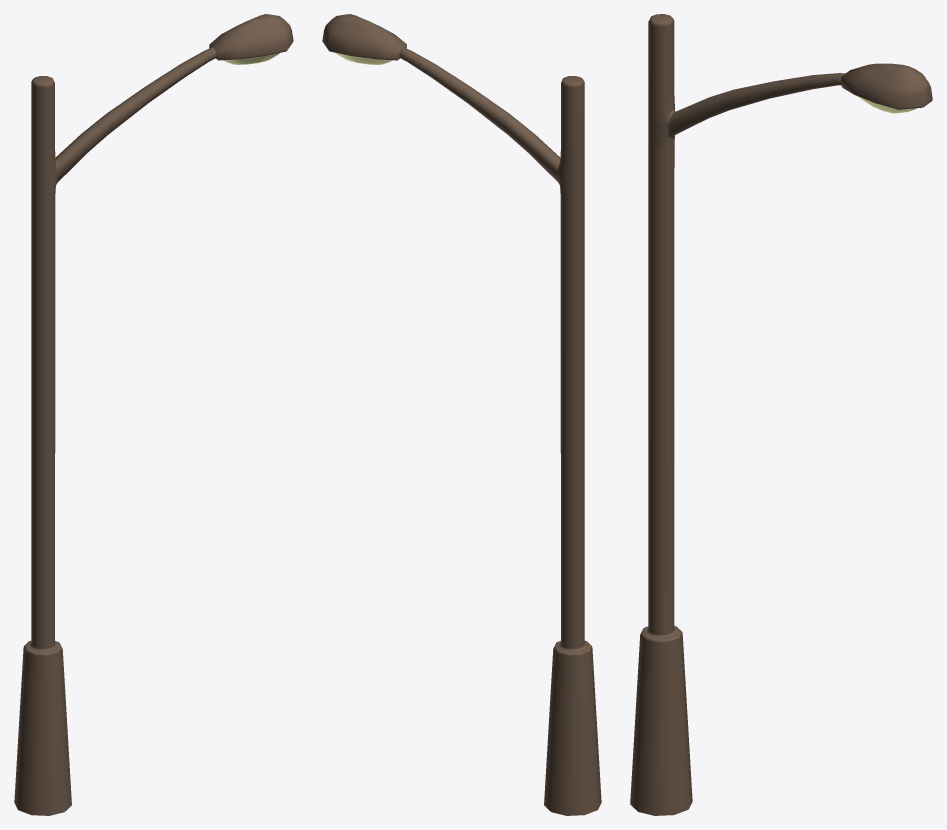
File: Lampost_MDL 1.fbx
3 views of the same model, side by side, from view 1: azimuth 30°, elevation 25°; view 2: azimuth 150°, elevation 25°; view 3: azimuth 330°, elevation 25° (orthographic). The views are drawn at different scales.
Parts seen in each view (by area): view 1: Lampost_MDL; view 2: Lampost_MDL; view 3: Lampost_MDL.
Boxes of the visible parts, <box> form: Lampost_MDL: <box>14,14,293,815</box>; Lampost_MDL: <box>322,14,601,815</box>; Lampost_MDL: <box>630,14,932,815</box>.
Bounding box in the file's own units: 140 × 361 × 24.6.
